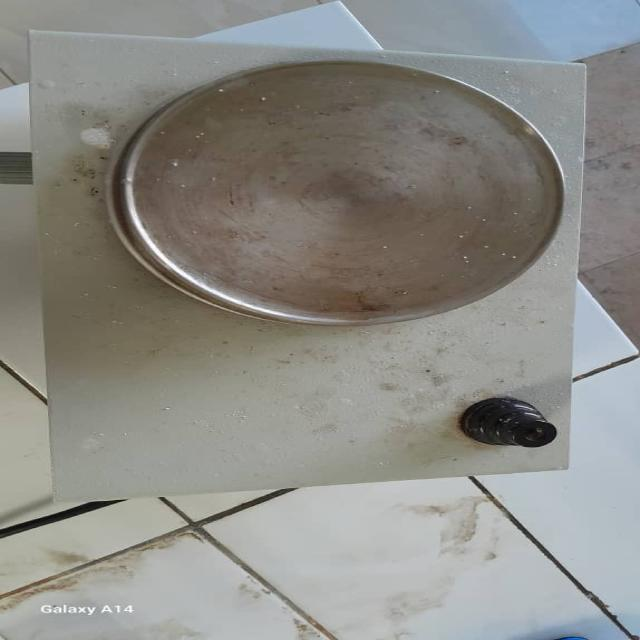Magnetic Stirrer: (6, 34, 594, 487)
